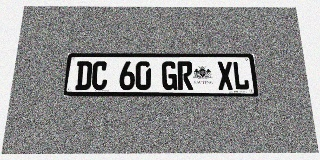0: (135, 61, 151, 90)
6: (119, 61, 135, 90)
C: (91, 61, 108, 90)
D: (75, 61, 92, 90)
G: (162, 61, 177, 90)
L: (232, 61, 250, 90)
R: (177, 61, 193, 90)
X: (217, 61, 234, 90)
